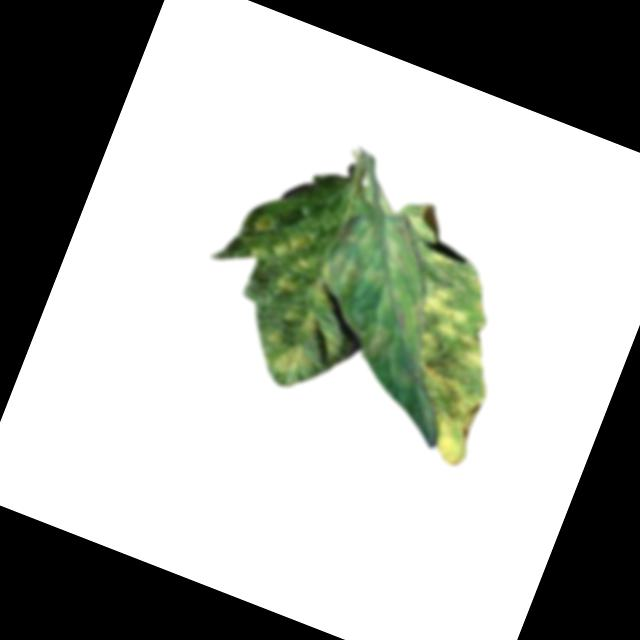Leaf_Mold: (360, 247, 533, 467), (298, 199, 449, 374), (234, 207, 330, 298), (257, 327, 321, 387), (281, 299, 328, 340)
